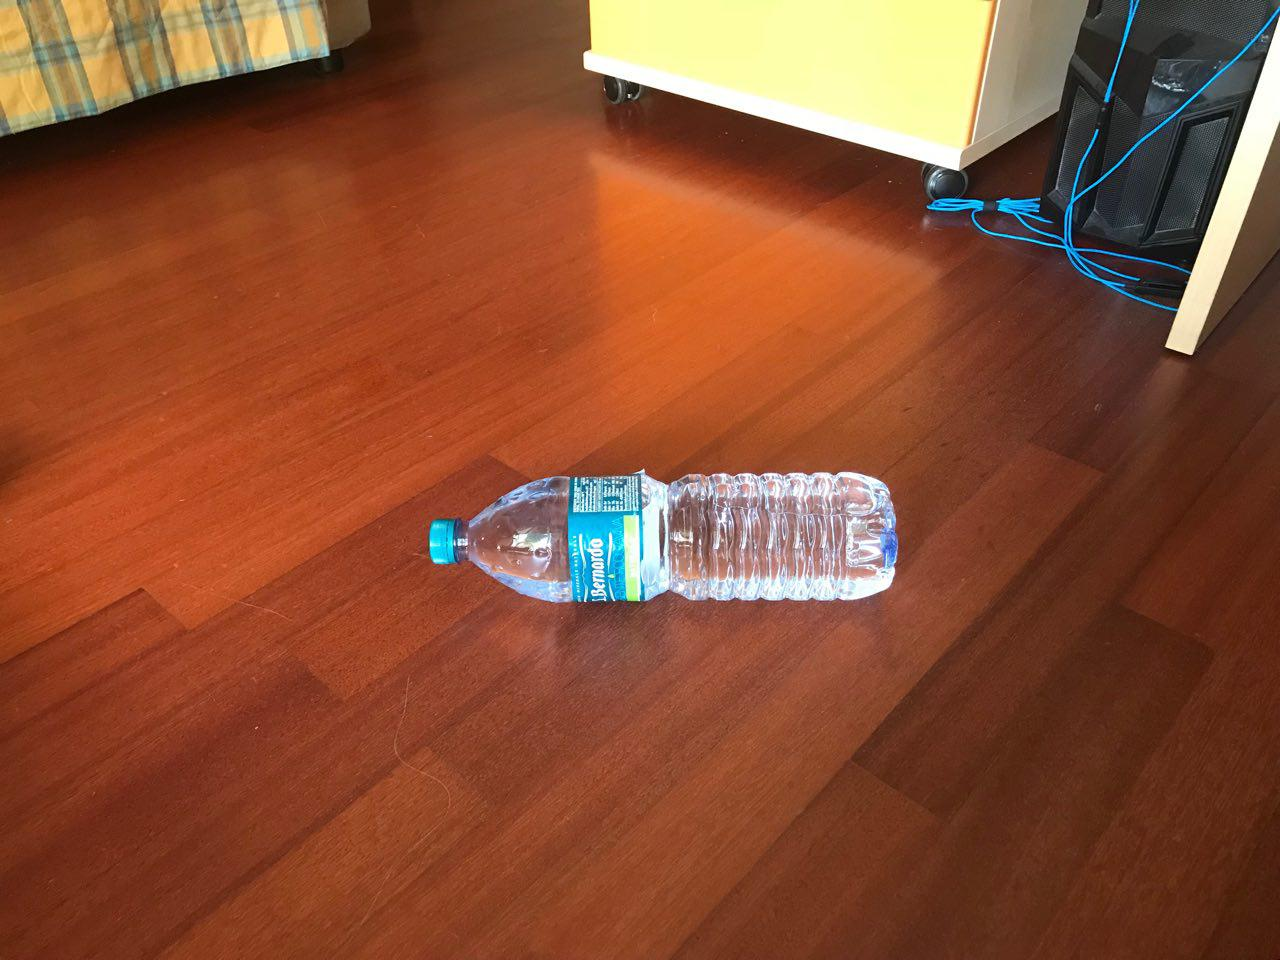san_bernardo: (425, 470, 899, 605)
